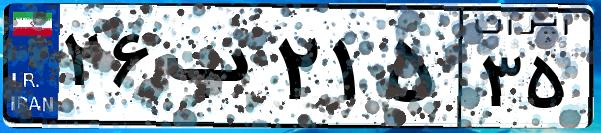1: (330, 28, 385, 110)
2: (270, 28, 330, 110), (57, 26, 110, 100)
3: (475, 38, 525, 113)
5: (385, 28, 445, 110), (525, 38, 570, 115)
6: (110, 28, 158, 98)
ب: (158, 20, 270, 120)
